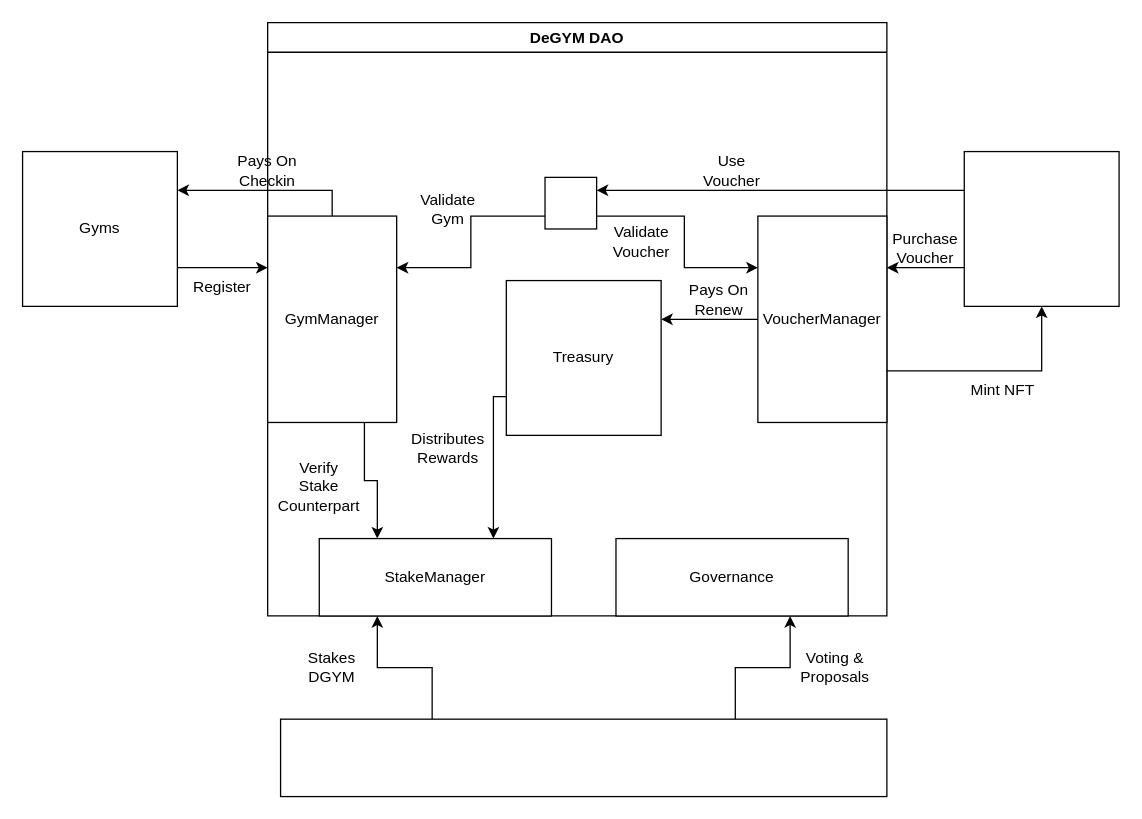
This 1142x819 diagram has some shape labels left out. Each missing label, with the box of its shape:
Checkin: (544, 176, 597, 229)
Costumers: (963, 150, 1119, 306)
Stakeholders: (279, 718, 887, 797)
